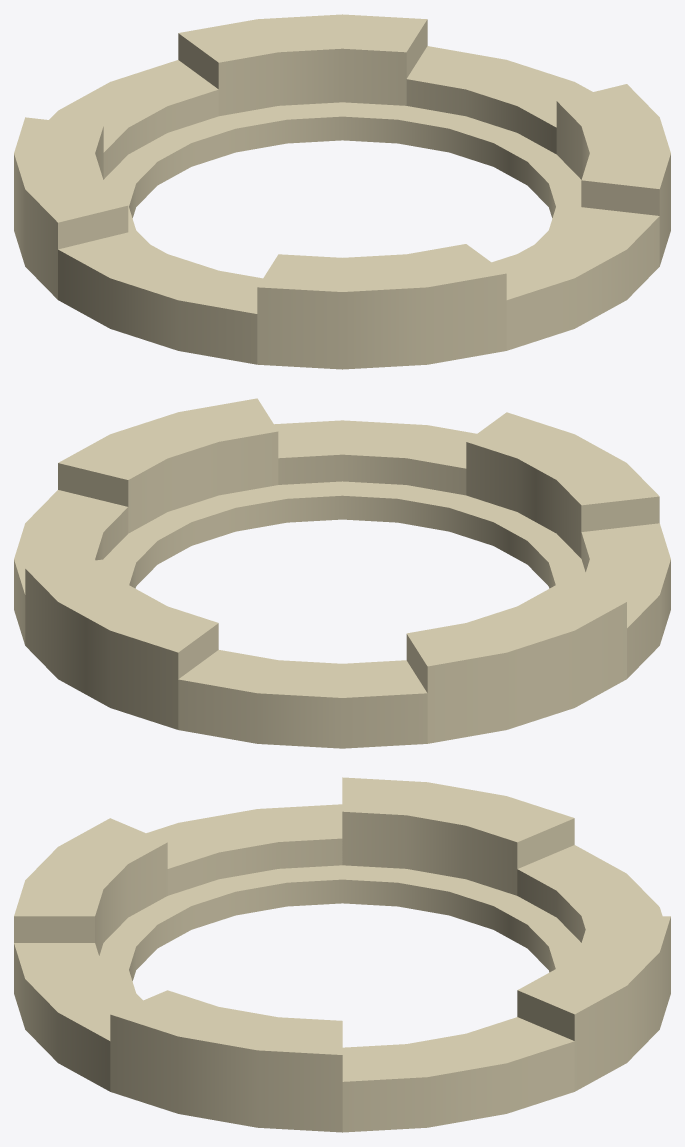
Rendered from towerTop.obj.
3 views of the same model, one above another, from view 1: azimuth 30°, elevation 25°; view 2: azimuth 150°, elevation 25°; view 3: azimuth 270°, elevation 25° (orthographic).
Visible parts, largest first — view 1: towerTop; view 2: towerTop; view 3: towerTop.
Boxes of the visible parts, box(x1,y1,x2,y2) form: towerTop: box(14, 14, 670, 369); towerTop: box(14, 398, 670, 748); towerTop: box(14, 777, 670, 1132).
Bounding box in the file's own units: 10 × 1.3 × 10.
